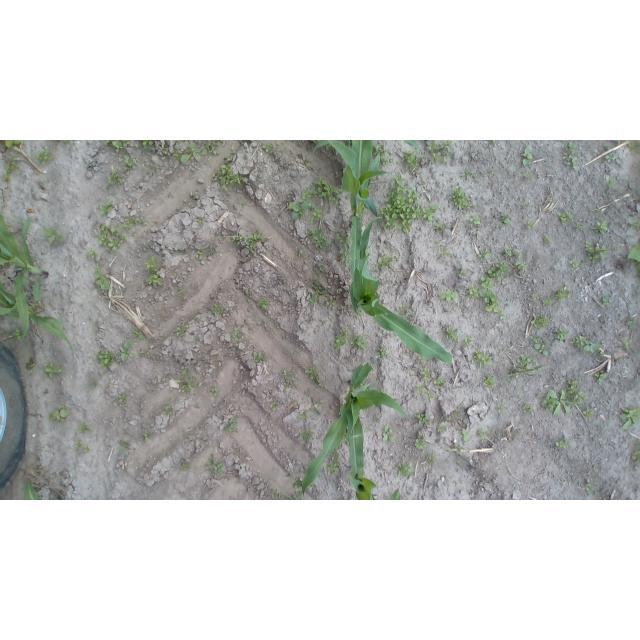Maize: (351, 213, 457, 367), (294, 362, 410, 500), (311, 141, 387, 321), (0, 209, 48, 337), (1, 283, 78, 356), (345, 469, 412, 500), (21, 481, 47, 500)
Weeds: (377, 173, 436, 232), (542, 377, 586, 416), (467, 278, 509, 318), (159, 140, 222, 164), (288, 186, 324, 224), (212, 161, 248, 192), (505, 353, 544, 379), (228, 228, 270, 251), (96, 223, 128, 253), (313, 177, 341, 207), (423, 141, 456, 166), (174, 366, 202, 395), (309, 283, 337, 312), (484, 258, 511, 285), (143, 257, 166, 288), (583, 239, 610, 265), (305, 226, 332, 252), (574, 334, 607, 355), (401, 149, 428, 174), (564, 141, 585, 173), (106, 170, 134, 194), (333, 231, 351, 265), (370, 144, 395, 167), (451, 187, 474, 212), (305, 366, 328, 391), (267, 488, 313, 500), (619, 405, 640, 430), (48, 404, 73, 424), (375, 252, 398, 273), (332, 328, 351, 353), (626, 241, 640, 274), (95, 350, 117, 371), (122, 215, 149, 232), (94, 269, 112, 294), (43, 227, 68, 245), (442, 326, 463, 347), (472, 349, 495, 368), (531, 335, 550, 358), (1, 159, 19, 183), (205, 459, 228, 477), (116, 341, 134, 364), (350, 332, 370, 352), (278, 369, 298, 389), (99, 201, 120, 220), (102, 140, 135, 152), (528, 314, 551, 331), (396, 460, 415, 480), (35, 146, 56, 164), (589, 221, 611, 238), (444, 407, 467, 423), (208, 302, 228, 320), (413, 430, 430, 451), (518, 146, 534, 168), (622, 314, 640, 333), (495, 213, 513, 231), (46, 364, 65, 381), (436, 243, 455, 260), (439, 287, 459, 303), (324, 454, 340, 474), (604, 149, 621, 167), (161, 404, 179, 421), (502, 247, 522, 262), (513, 260, 529, 278), (223, 418, 239, 436), (373, 347, 392, 362), (520, 197, 535, 216), (252, 297, 272, 311), (566, 256, 589, 268), (196, 247, 217, 260), (556, 211, 572, 228), (468, 212, 483, 230), (481, 371, 496, 389), (124, 155, 139, 173), (381, 425, 395, 444), (399, 305, 415, 321), (309, 260, 325, 276), (554, 288, 570, 304), (131, 327, 148, 342), (309, 398, 323, 416), (522, 170, 538, 185), (571, 216, 586, 232), (554, 328, 570, 343), (175, 323, 188, 341), (630, 445, 640, 468), (232, 327, 247, 342), (251, 350, 265, 366), (475, 247, 491, 261), (433, 374, 447, 390), (414, 413, 431, 426), (593, 369, 607, 384), (477, 428, 491, 443), (459, 170, 473, 184), (602, 177, 616, 191), (299, 429, 313, 443), (144, 163, 159, 176), (15, 327, 28, 342), (270, 397, 282, 413), (582, 483, 599, 494), (141, 141, 158, 152), (117, 442, 131, 455), (264, 141, 277, 155), (462, 335, 475, 349), (420, 368, 433, 382), (425, 452, 439, 465), (208, 386, 222, 399), (627, 140, 640, 154), (236, 197, 248, 212), (76, 423, 92, 434), (117, 393, 130, 406), (622, 337, 635, 350), (425, 392, 438, 405), (292, 477, 305, 490), (434, 219, 446, 233), (520, 403, 534, 415), (629, 217, 640, 232), (539, 296, 555, 306), (460, 428, 470, 444), (142, 430, 155, 442), (592, 208, 605, 220), (436, 423, 449, 435), (496, 404, 510, 415), (524, 218, 536, 230), (556, 440, 572, 449), (86, 248, 98, 260), (458, 268, 471, 279), (416, 383, 427, 396), (193, 332, 204, 345), (243, 291, 255, 302), (186, 199, 199, 209), (583, 407, 594, 418), (175, 288, 186, 299), (138, 349, 149, 360), (191, 312, 201, 324), (543, 234, 553, 245), (600, 296, 610, 307), (195, 217, 205, 228), (95, 261, 106, 271), (192, 404, 204, 413), (82, 444, 91, 454), (73, 441, 83, 450), (181, 462, 191, 471), (417, 355, 427, 364), (296, 250, 305, 259), (489, 140, 501, 146), (298, 410, 307, 418), (454, 446, 462, 454), (530, 292, 536, 301)
